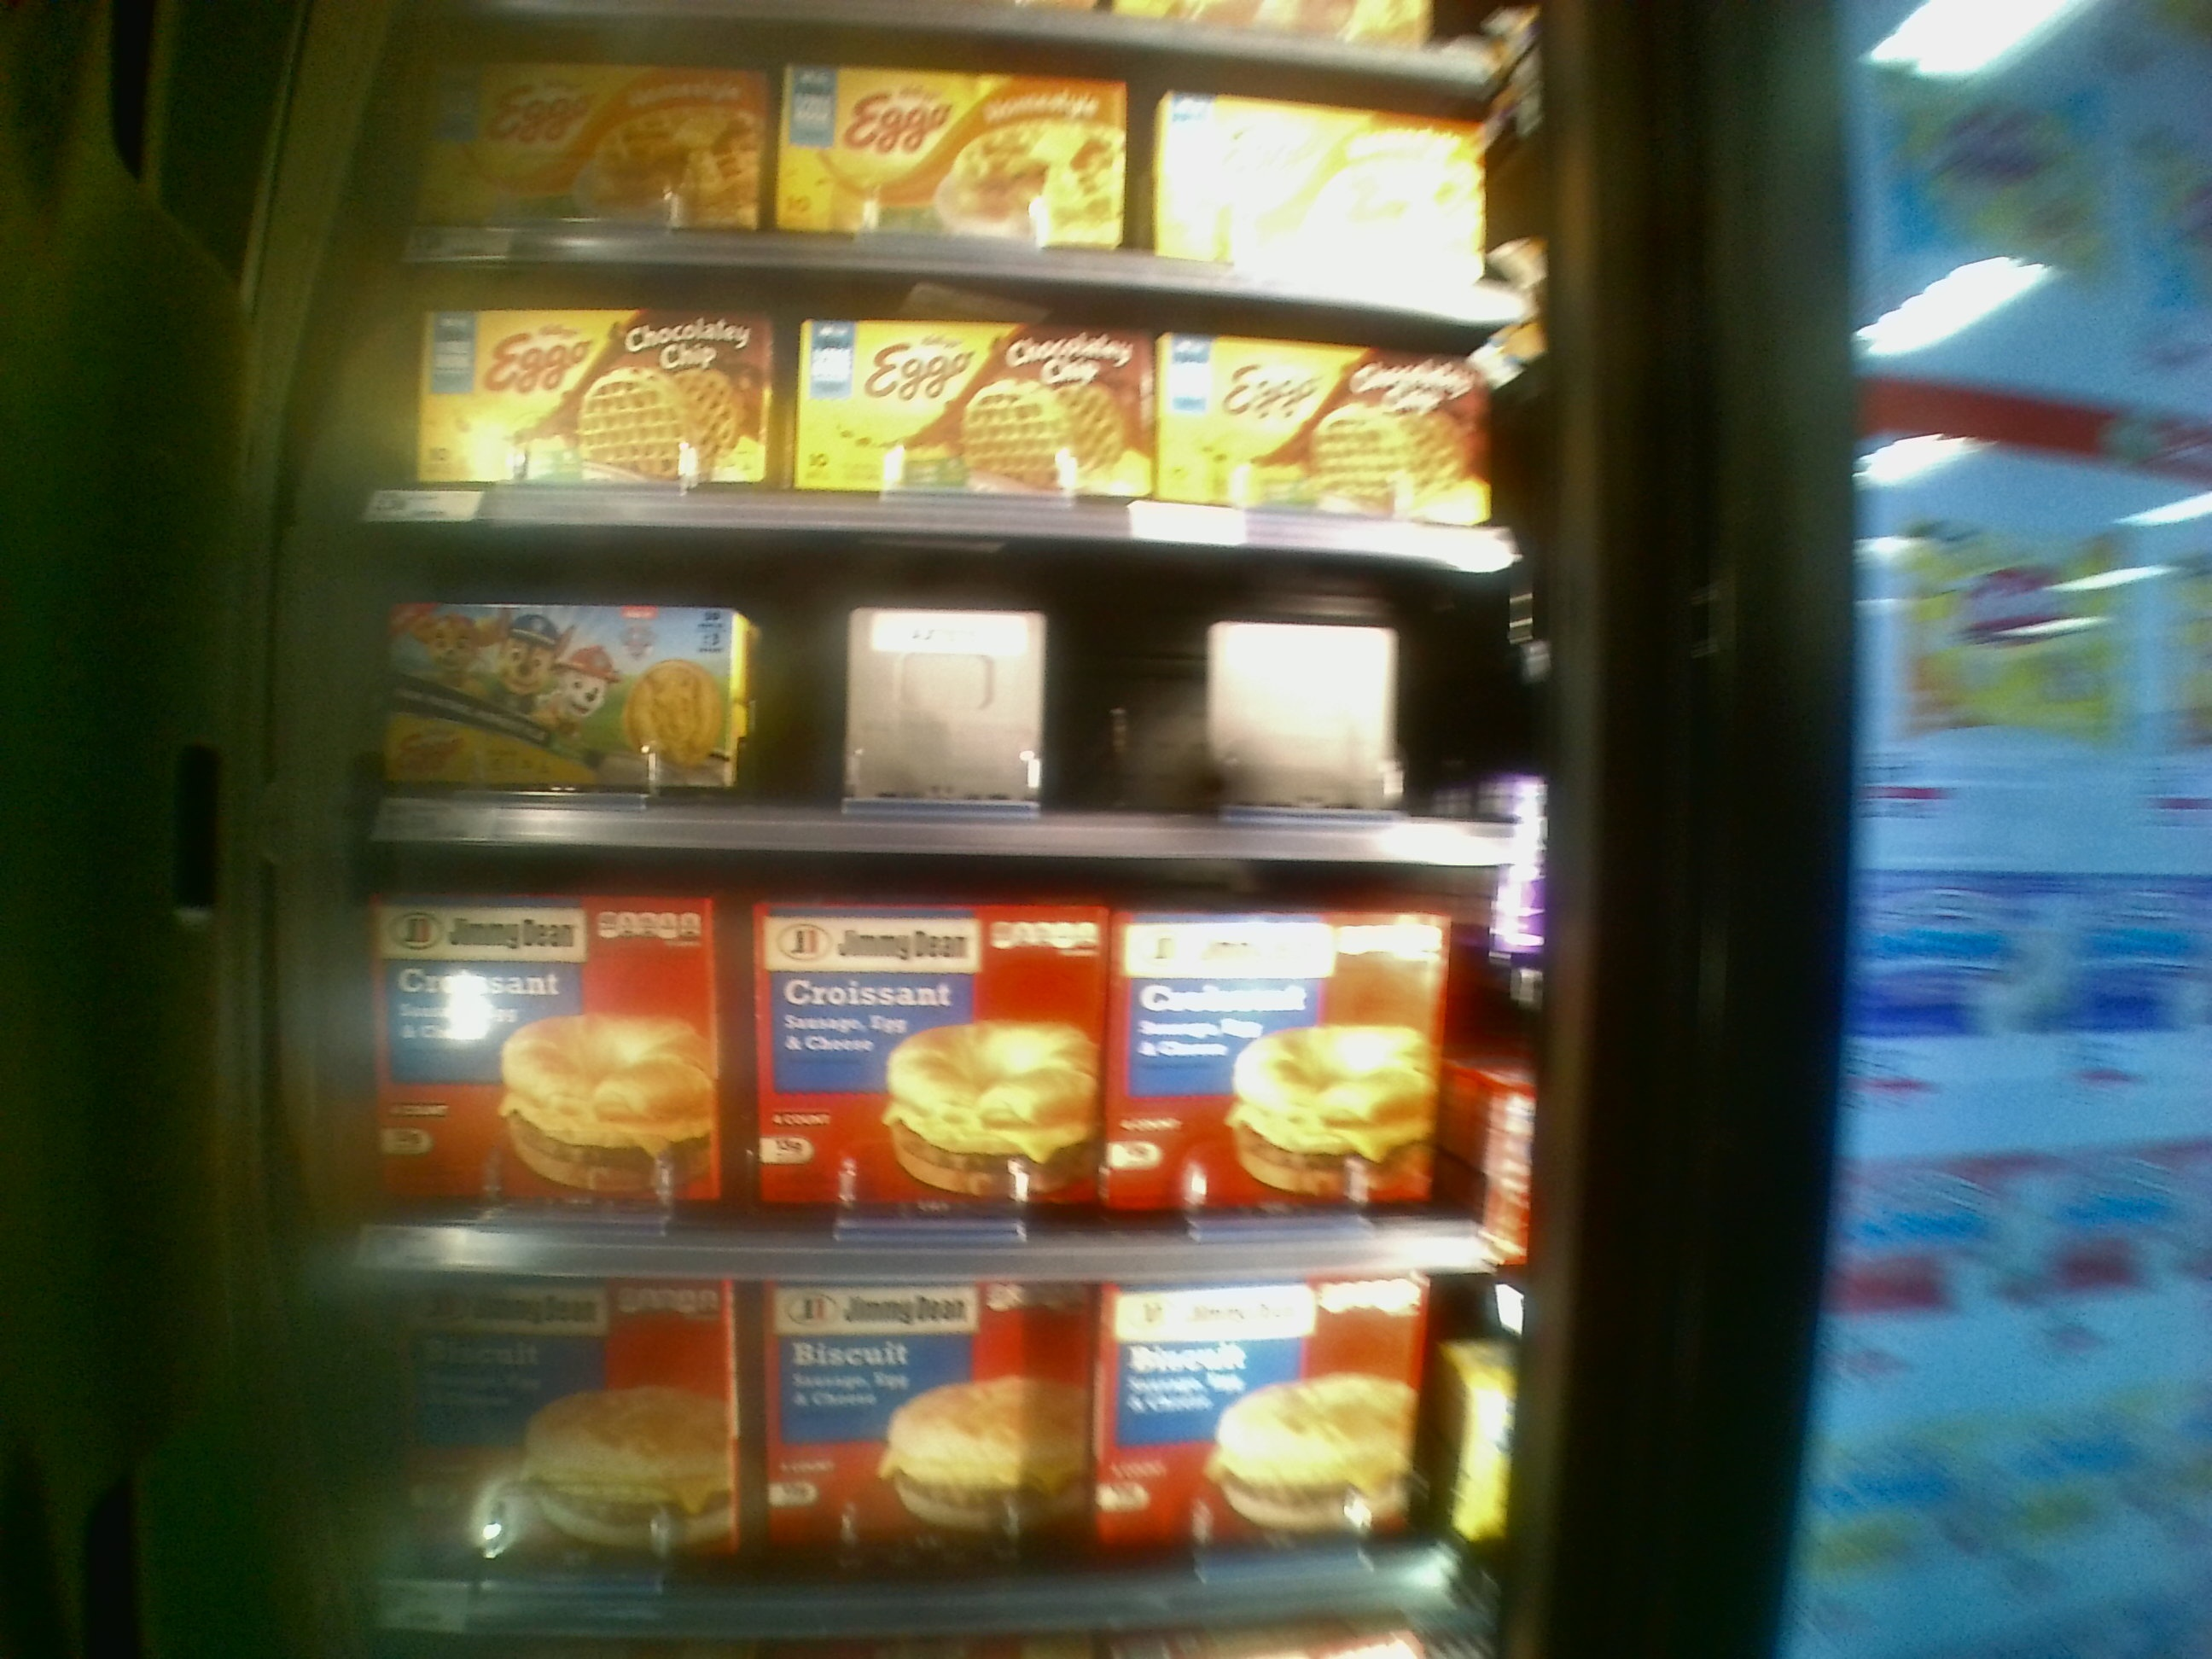shelf: (376, 847, 1514, 1281), (361, 532, 1543, 863), (376, 256, 1524, 558)
